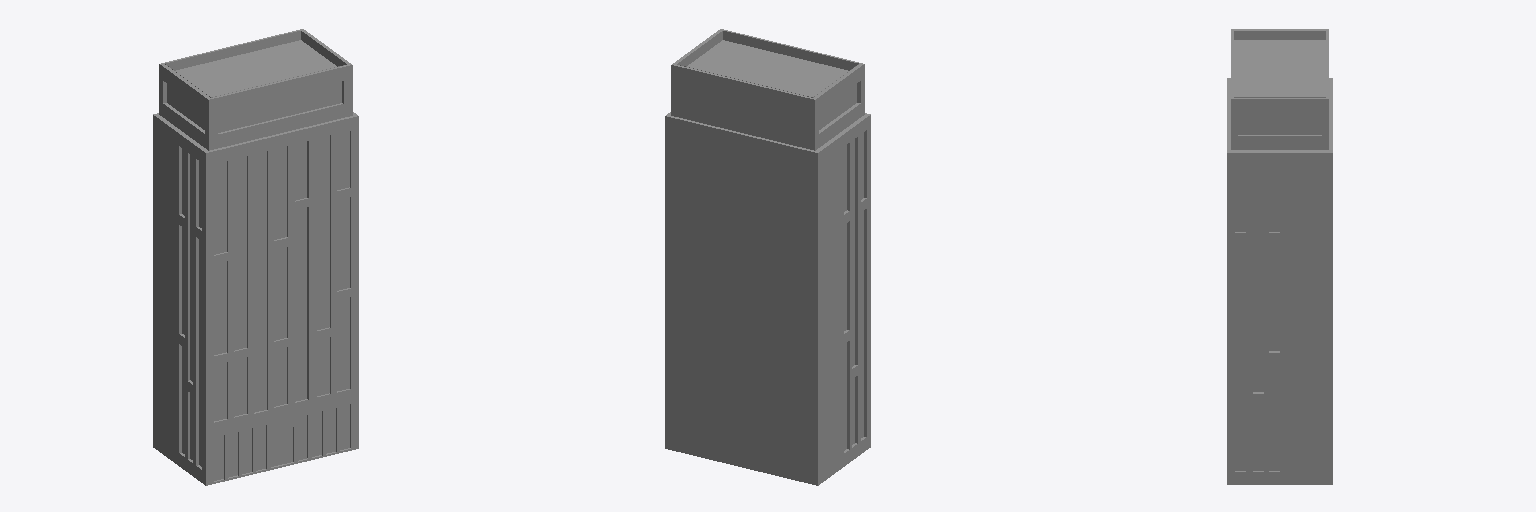
Rendered from edificioa_nuevo.obj.
3 views of the same model, side by side, from view 1: azimuth 30°, elevation 25°; view 2: azimuth 150°, elevation 25°; view 3: azimuth 270°, elevation 25° (orthographic).
Visible parts, largest first — view 1: Building11; view 2: Building11; view 3: Building11.
Boxes of the visible parts, x1=… form: Building11: x1=153, y1=29, x2=358, y2=485; Building11: x1=665, y1=29, x2=870, y2=485; Building11: x1=1227, y1=29, x2=1332, y2=484.
Size of the model in its own units: 5 by 12 by 3.